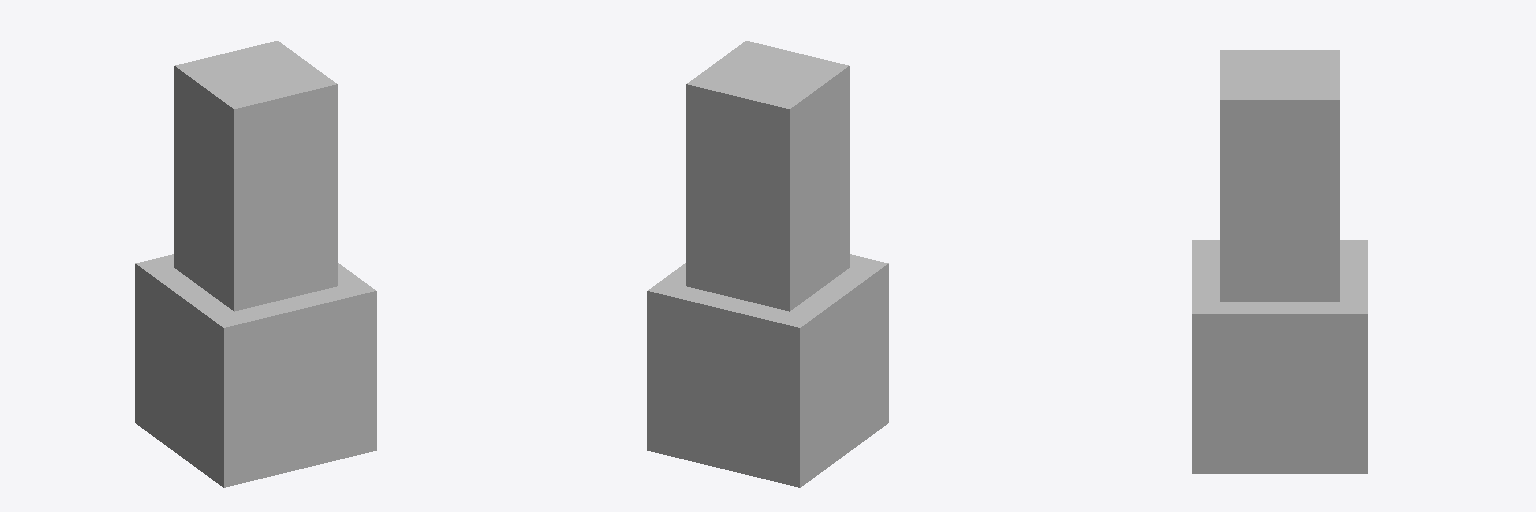
Rendered from testObj.obj.
3 views of the same model, side by side, from view 1: azimuth 30°, elevation 25°; view 2: azimuth 150°, elevation 25°; view 3: azimuth 270°, elevation 25° (orthographic).
Parts seen in each view (by area): view 1: Cube; view 2: Cube; view 3: Cube.
Boxes of the visible parts, box(x1,y1,x2,y2) form: Cube: box(135, 41, 376, 487); Cube: box(647, 41, 888, 487); Cube: box(1192, 50, 1367, 473).
Size of the model in its own units: 2 by 4.53 by 2.